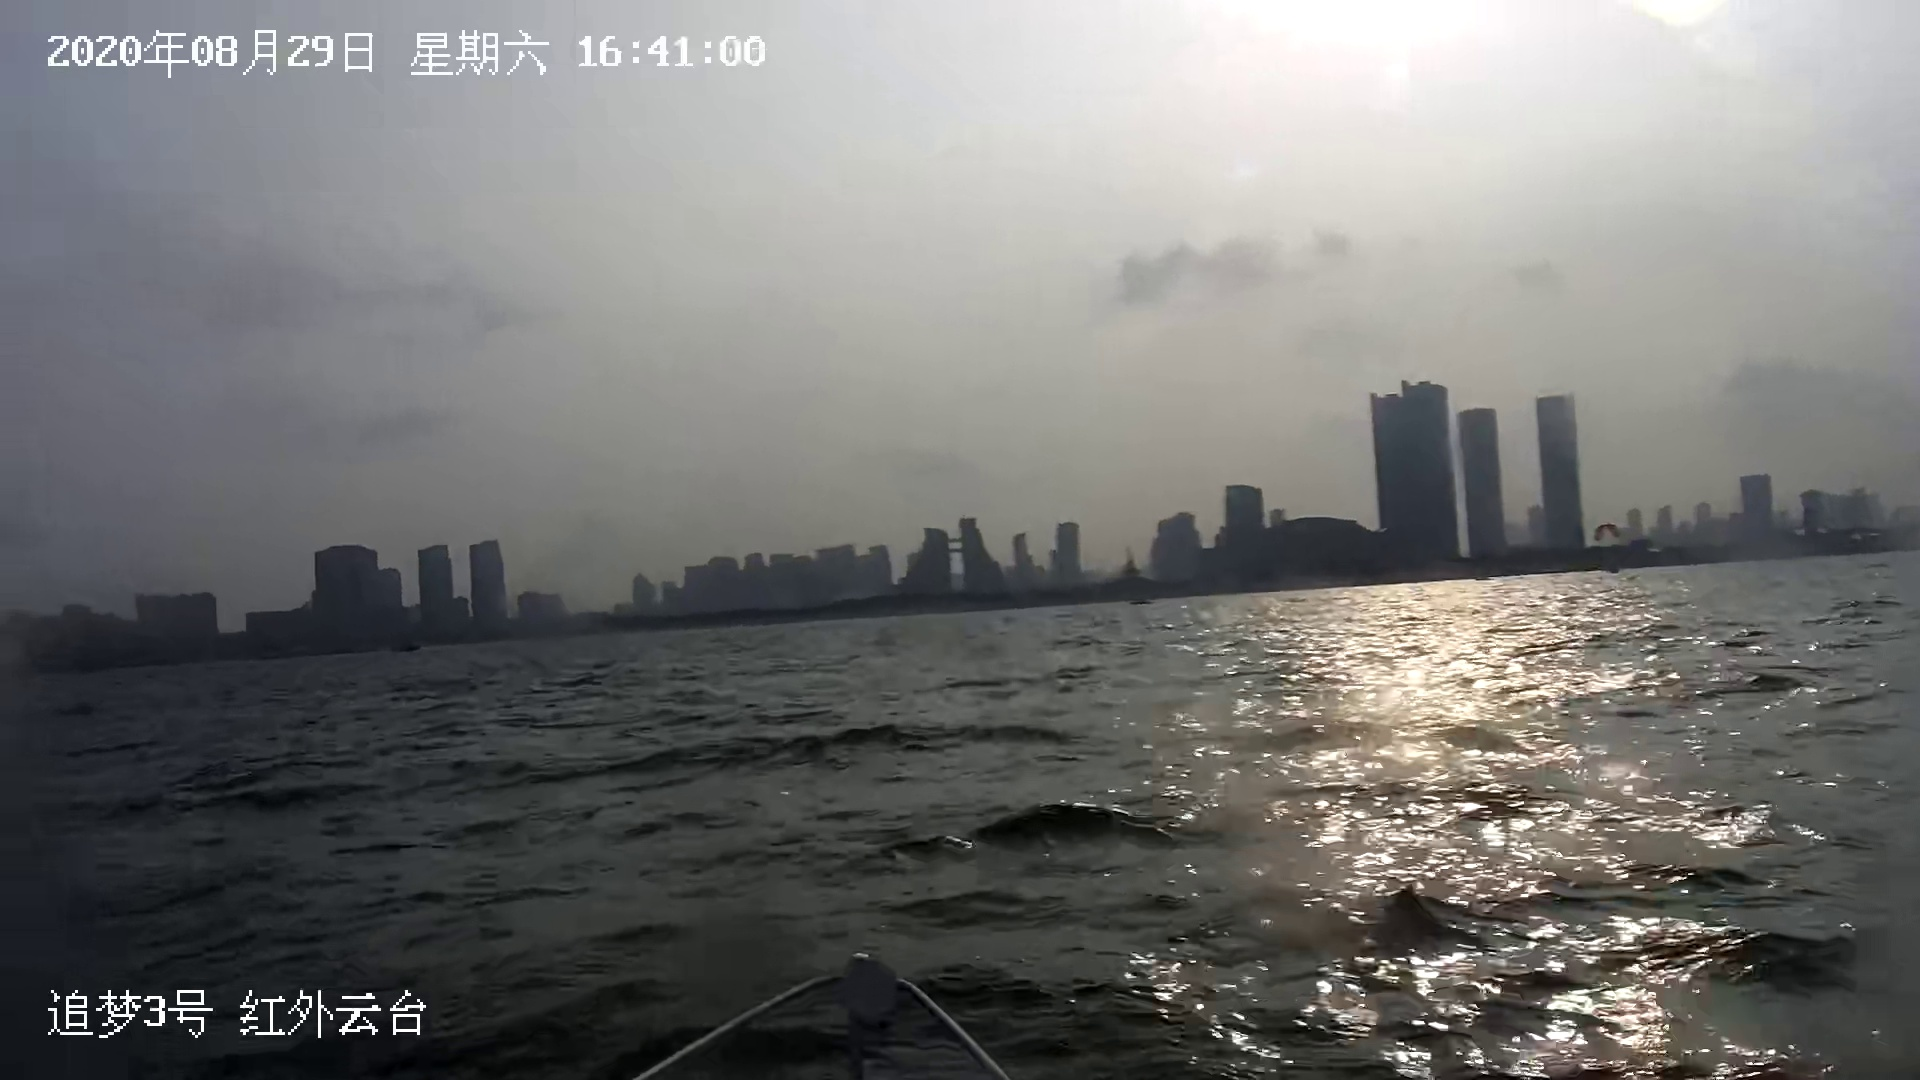coast: (38, 371, 1908, 673)
